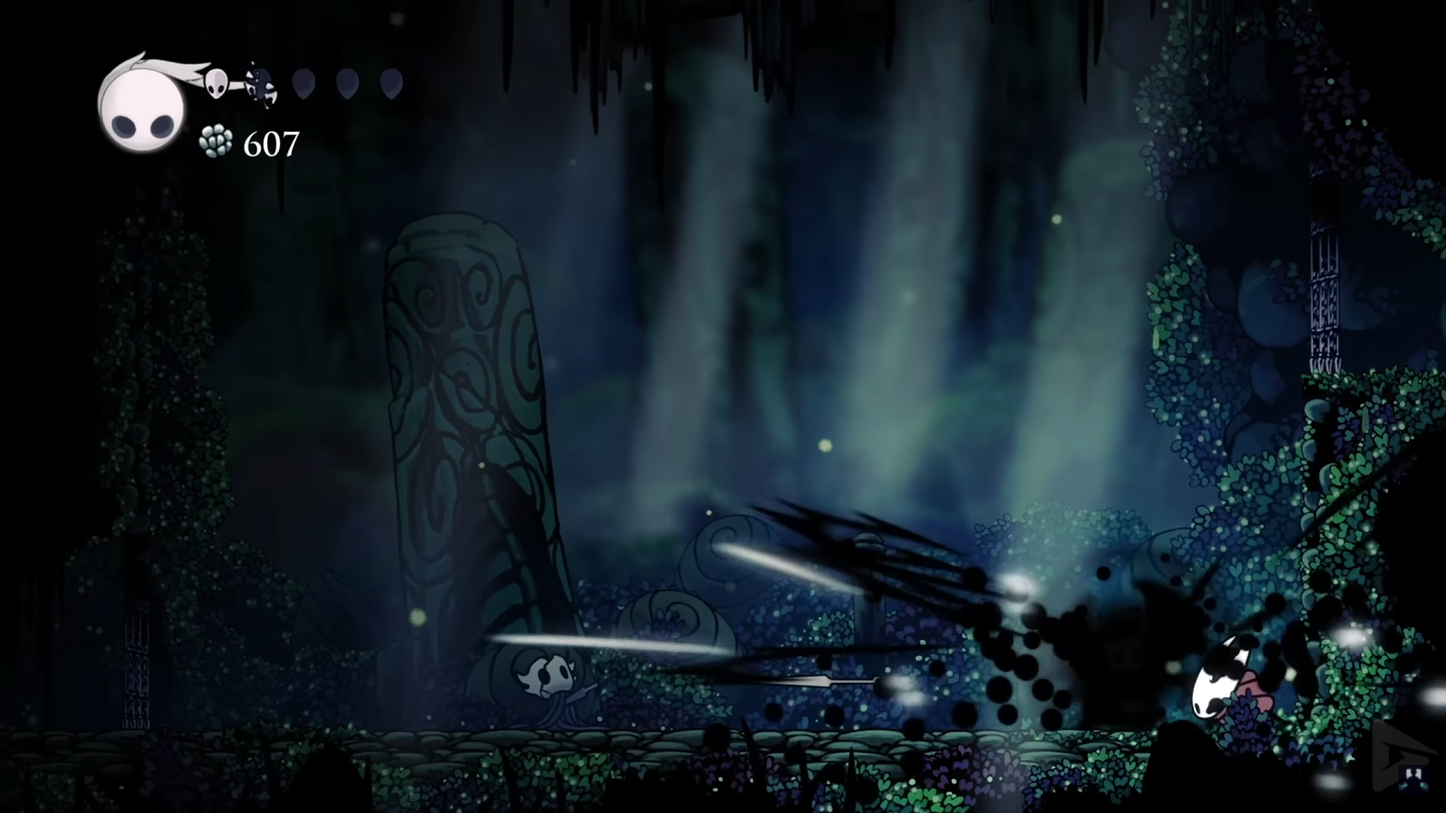HK: (1100, 634, 1166, 681)
